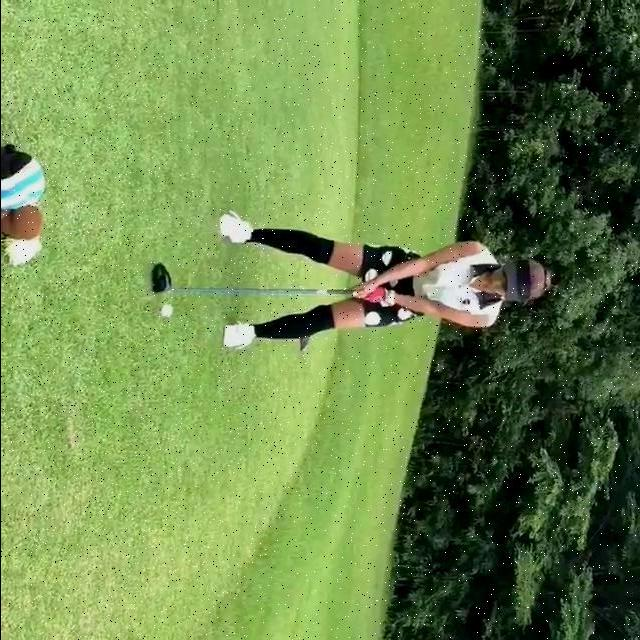golf ball: (159, 304, 172, 317)
golf club-handle: (150, 259, 359, 299)
golf club-head: (150, 262, 170, 295)
